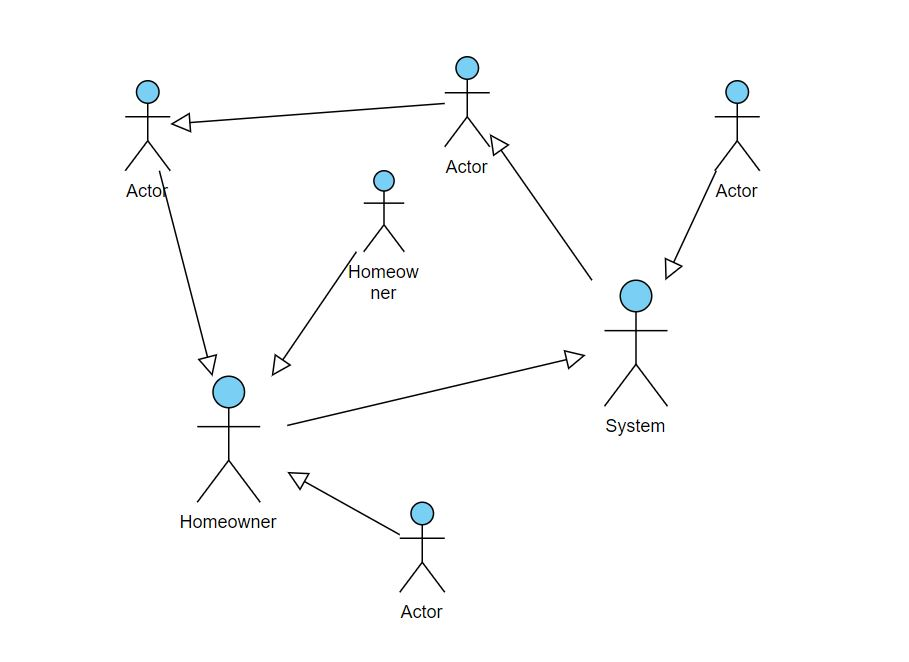actor: (603, 279, 668, 410), (195, 376, 261, 504), (115, 78, 173, 175), (401, 503, 446, 595), (716, 78, 759, 172), (445, 55, 488, 148), (362, 168, 405, 253)
generalization: (287, 349, 588, 426), (489, 134, 590, 280), (159, 172, 215, 375), (273, 253, 358, 375), (173, 97, 447, 131), (283, 470, 399, 534), (666, 176, 716, 278)
text: (176, 511, 281, 534), (348, 268, 421, 297), (599, 415, 668, 437), (116, 176, 173, 200), (394, 602, 447, 624), (438, 156, 490, 176), (716, 179, 761, 202)
